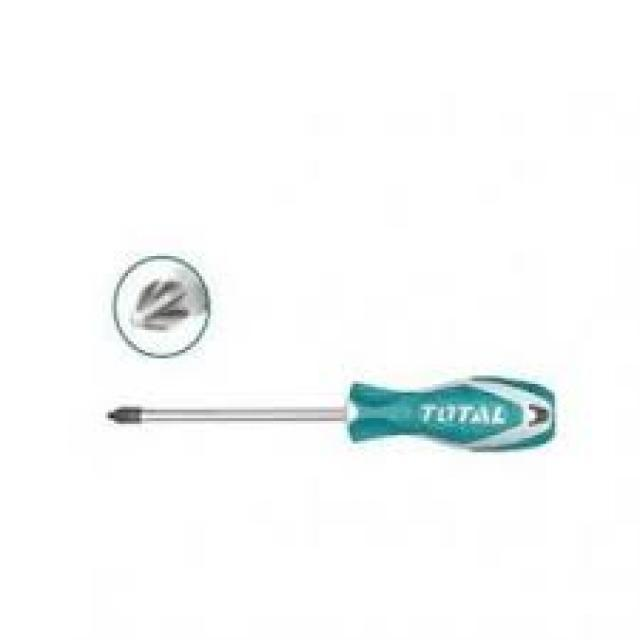screwdriver: (101, 375, 559, 458)
